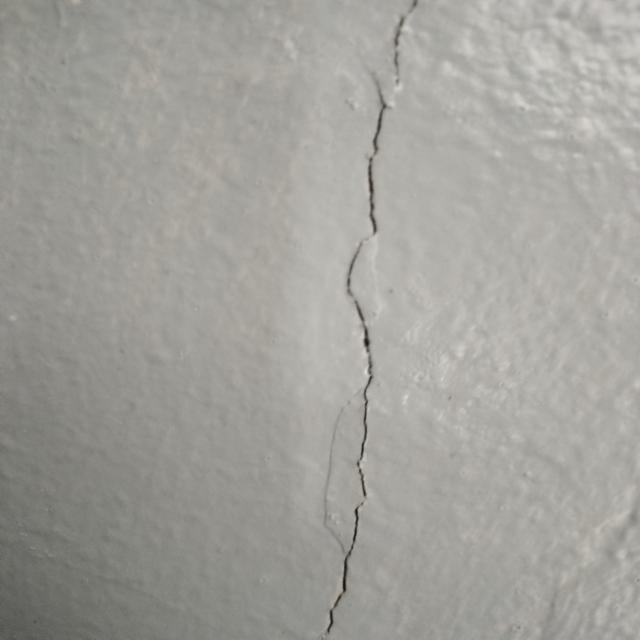Crack: (314, 0, 430, 640)
